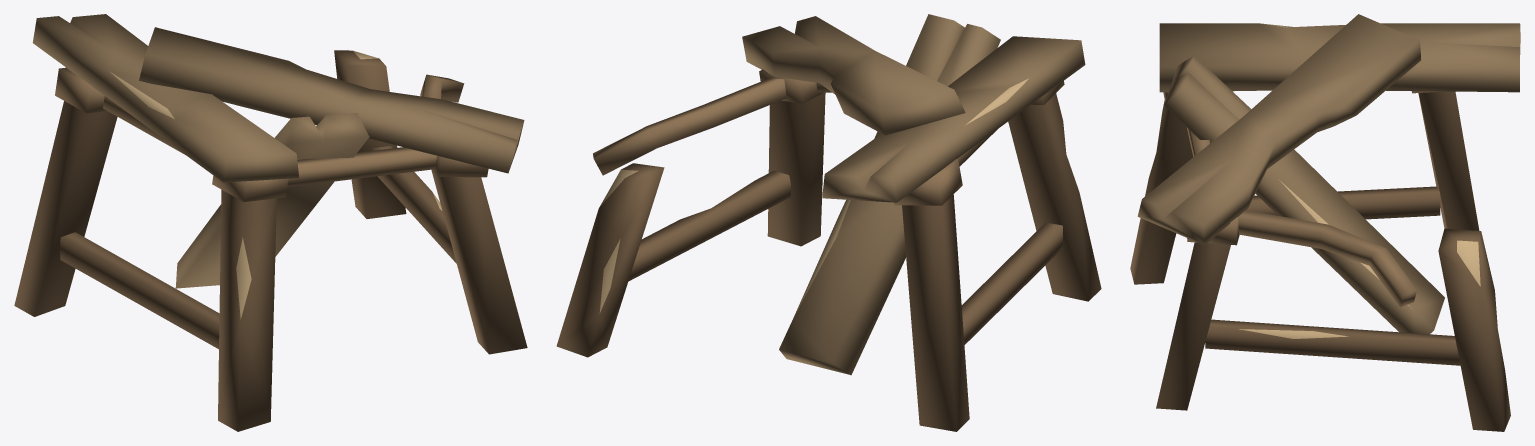
Rendered from rpgpp_av_table_small_01a.gltf.
The picture shows the model from 3 angles, left to right: view 1: azimuth 30°, elevation 25°; view 2: azimuth 150°, elevation 25°; view 3: azimuth 270°, elevation 25°; orthographic projection. The views are drawn at different scales.
Parts seen in each view (by area): view 1: rpgpp_av_table_small_01a; view 2: rpgpp_av_table_small_01a; view 3: rpgpp_av_table_small_01a.
Part boxes in pixels (box(x1,y1,x2,y2)): rpgpp_av_table_small_01a: box(14, 14, 527, 431); rpgpp_av_table_small_01a: box(556, 14, 1101, 431); rpgpp_av_table_small_01a: box(1130, 14, 1520, 431).
Size of the model in its own units: 0.0134 by 0.00893 by 0.0117.
1 material, 1 textured.
